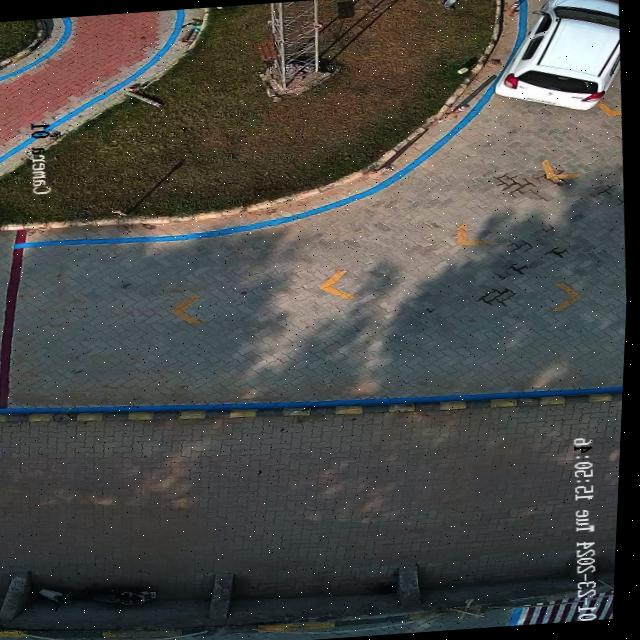car: (495, 0, 621, 110)
